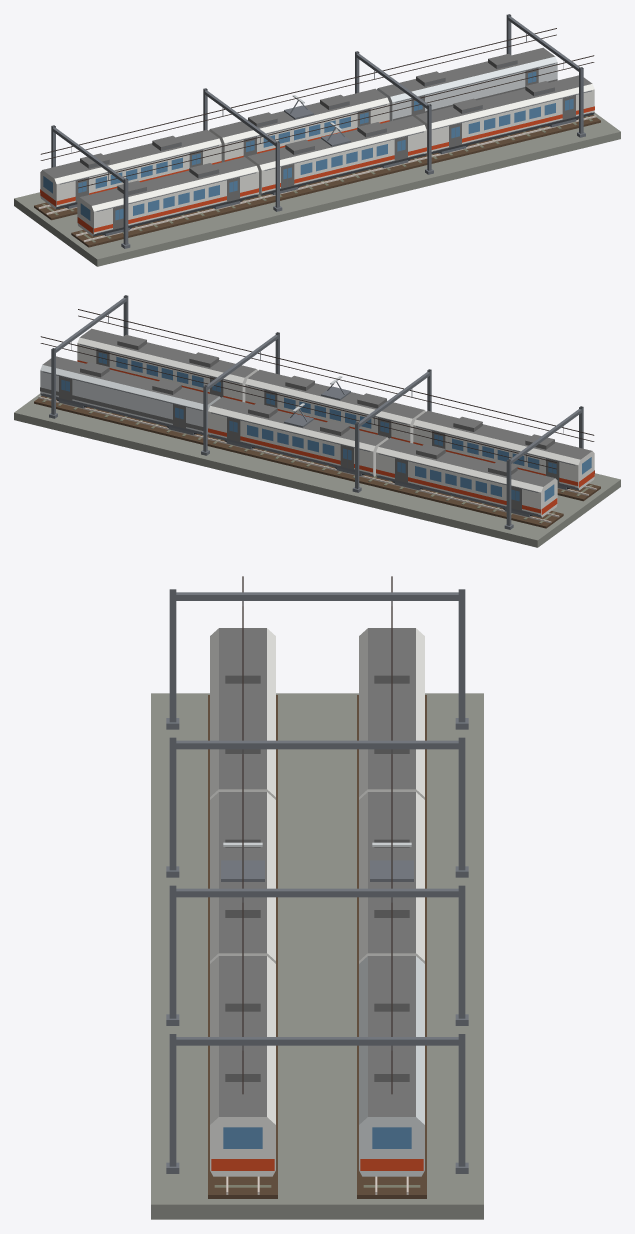
Rendered from mashup-yard-top-prebuilt_close.fbx.
The picture shows the model from 3 angles, top to bottom: view 1: azimuth 30°, elevation 25°; view 2: azimuth 150°, elevation 25°; view 3: azimuth 270°, elevation 25°; orthographic projection. The views are drawn at different scales.
Visible parts, largest first — view 1: a1082/0/mashup-yard-top-prebuilt_close; view 2: a1082/0/mashup-yard-top-prebuilt_close; view 3: a1082/0/mashup-yard-top-prebuilt_close.
Part boxes in pixels (x1,y1,x2,y2): a1082/0/mashup-yard-top-prebuilt_close: (14, 14, 620, 266); a1082/0/mashup-yard-top-prebuilt_close: (14, 295, 620, 547); a1082/0/mashup-yard-top-prebuilt_close: (151, 576, 483, 1219).
Size of the model in its own units: 55.2 by 7.6 by 15.2.
